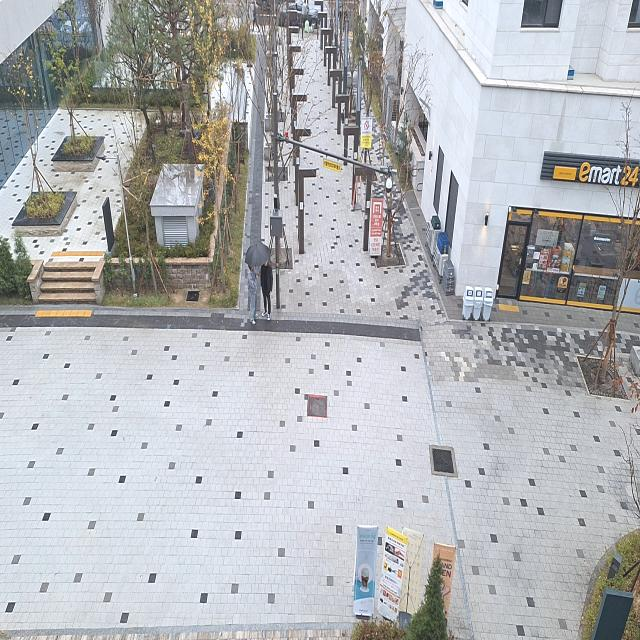Car: (273, 0, 320, 33)
